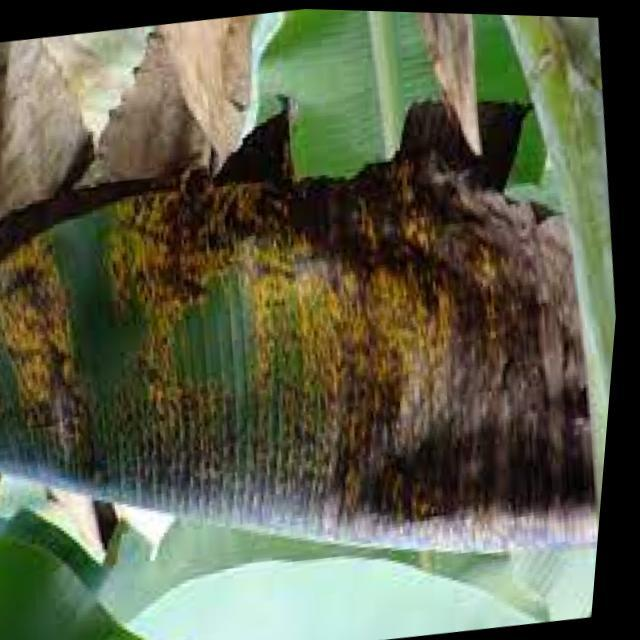Early_rust: (0, 129, 640, 570)
